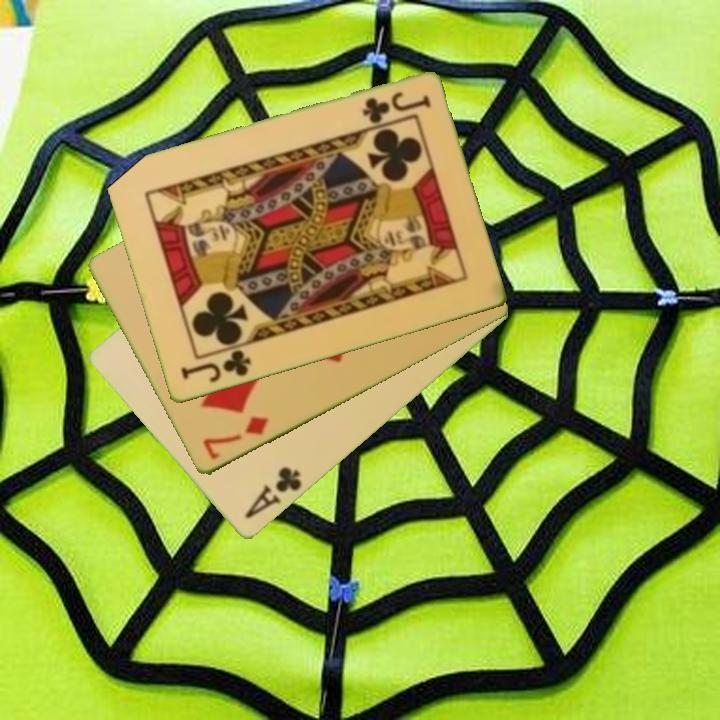7d: (199, 413, 272, 463)
Ac: (241, 464, 305, 523)
Jc: (177, 346, 254, 386), (358, 89, 434, 127)
